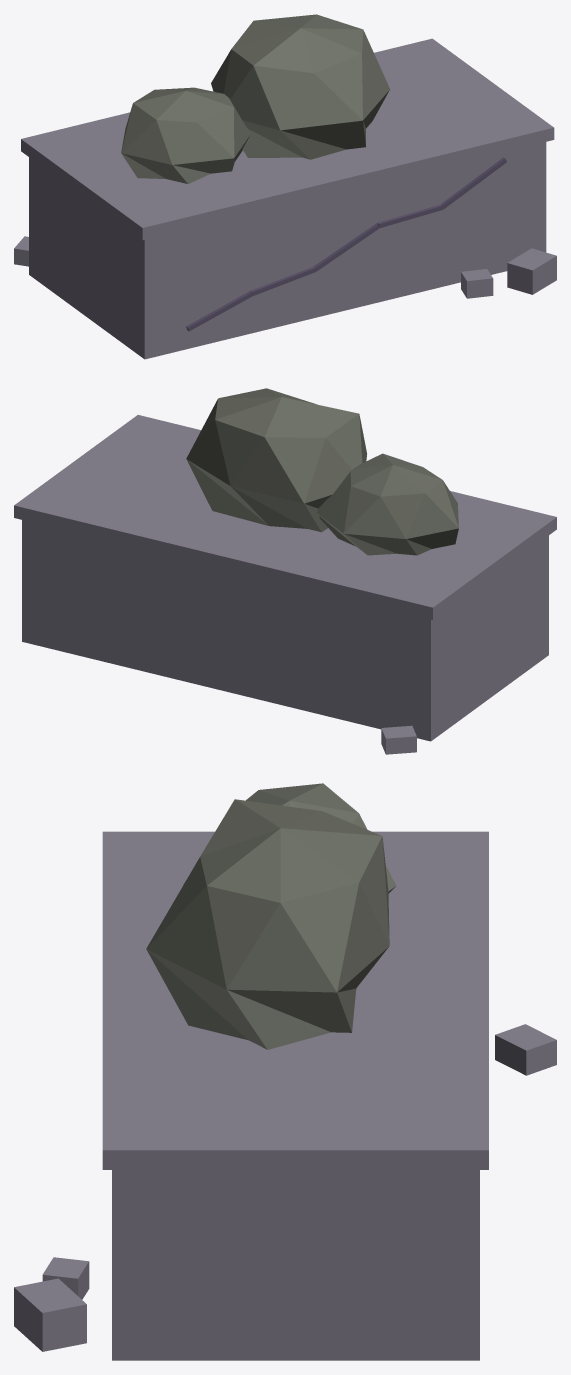
The model's file is PlanterCracked.glb.
3 renders of one model, top to bottom at view 1: azimuth 30°, elevation 25°; view 2: azimuth 150°, elevation 25°; view 3: azimuth 270°, elevation 25°, orthographic. The views are drawn at different scales.
Visible parts, largest first — view 1: rim, crown (×2), side-1, end--1, base, end-1, chip (×2), fracture-4, fracture-2, fracture-0, fracture-1, fracture-3; view 2: side--1, rim, crown (×2), end--1, base, end-1, chip; view 3: rim, end-1, crown (×2), base, chip (×3).
Boxes of the visible parts, <box> form: rim: <box>21,38,554,240</box>; crown (×2): <box>121,14,389,183</box>; side-1: <box>178,150,512,349</box>; end--1: <box>29,157,178,358</box>; base: <box>29,230,546,359</box>; end-1: <box>512,142,546,251</box>; chip (×2): <box>461,248,556,298</box>; fracture-4: <box>440,157,506,209</box>; fracture-2: <box>313,223,379,271</box>; fracture-0: <box>186,291,252,331</box>; fracture-1: <box>250,267,315,296</box>; fracture-3: <box>377,204,442,227</box>; side--1: <box>56,528,396,728</box>; rim: <box>14,415,556,619</box>; crown (×2): <box>186,388,458,555</box>; end--1: <box>397,535,548,740</box>; base: <box>22,610,548,741</box>; end-1: <box>22,520,55,649</box>; chip: <box>381,725,416,754</box>; rim: <box>102,831,488,1169</box>; end-1: <box>112,1170,479,1360</box>; crown (×2): <box>146,783,396,1049</box>; base: <box>112,1310,479,1360</box>; chip (×3): <box>14,1024,556,1351</box>.
Size of the model in its own units: 2.46 by 1.38 by 1.77.
